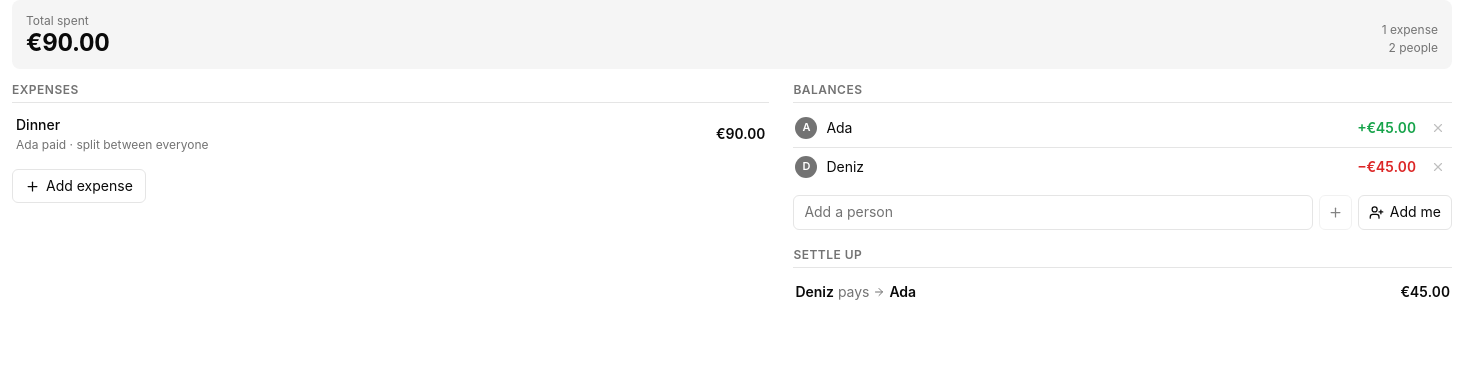
Test: Expenses › lets a member join with one click and re-splits between everyone
Later steps or results of the test are not shown.
Click the button "Add me" at (1405, 213), box [1358,195,1452,230]
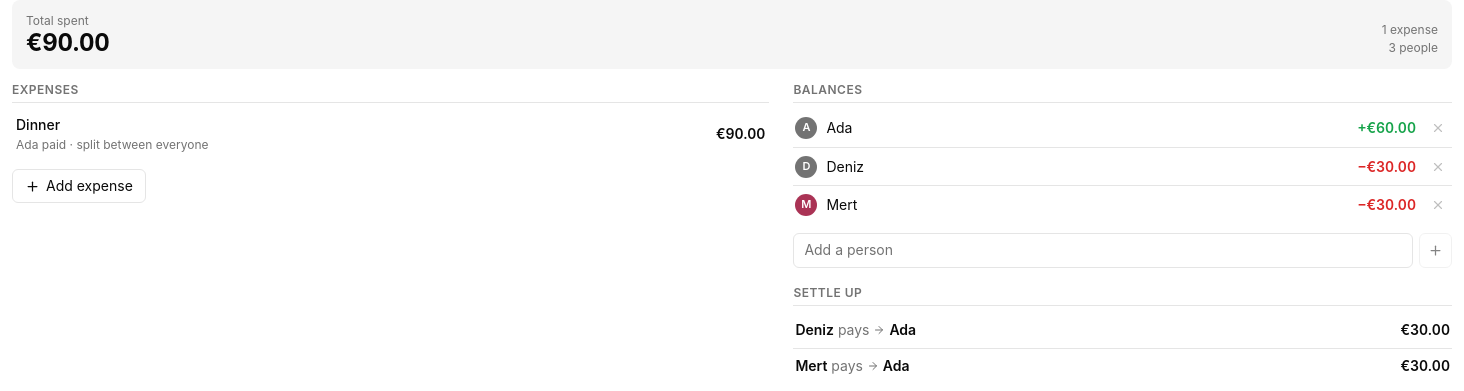
Result: the button "Add me" is gone
